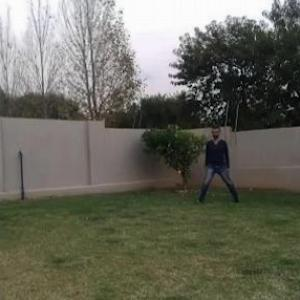follow: (208, 118, 228, 200)
